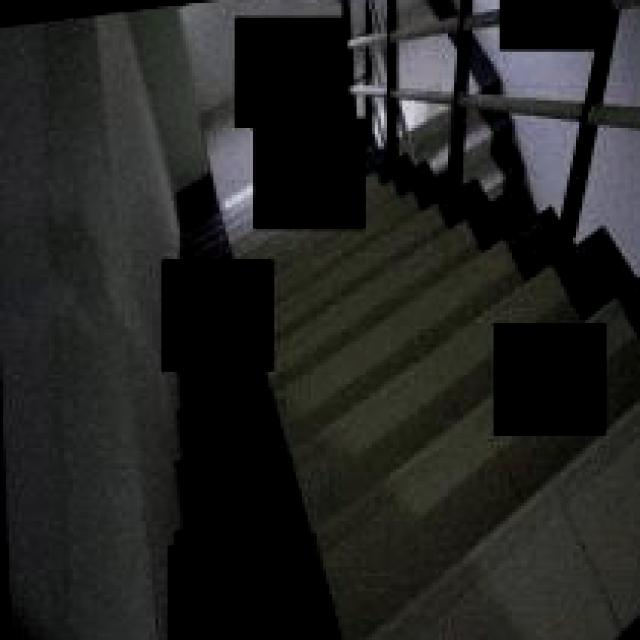downstair: (297, 260, 492, 640)
